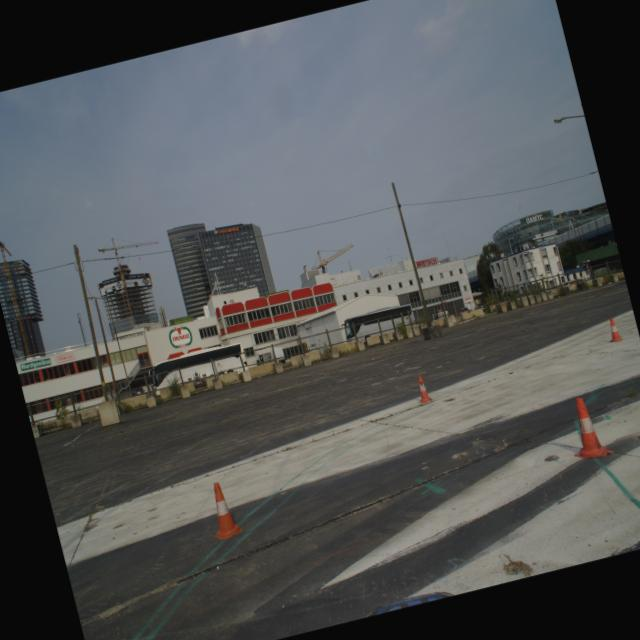orange_cone: (560, 392, 614, 464), (200, 478, 245, 542), (411, 372, 434, 404), (602, 316, 622, 344)
